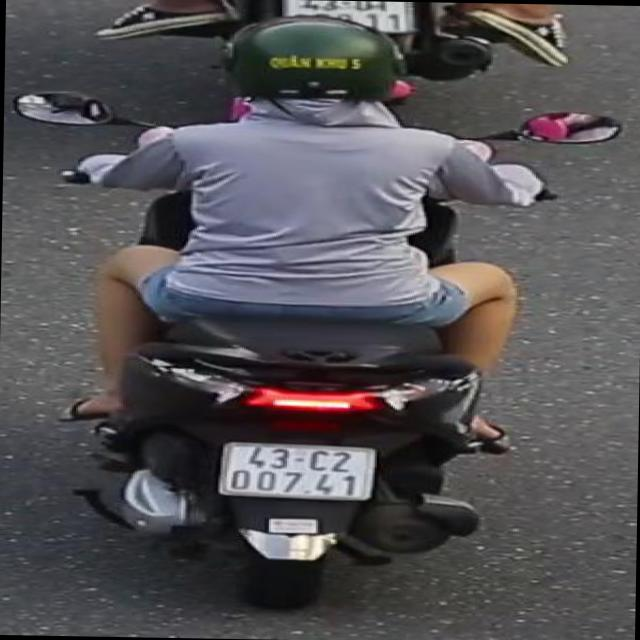LP: (214, 438, 380, 506), (277, 0, 421, 34)
helmet: (216, 13, 412, 134)
